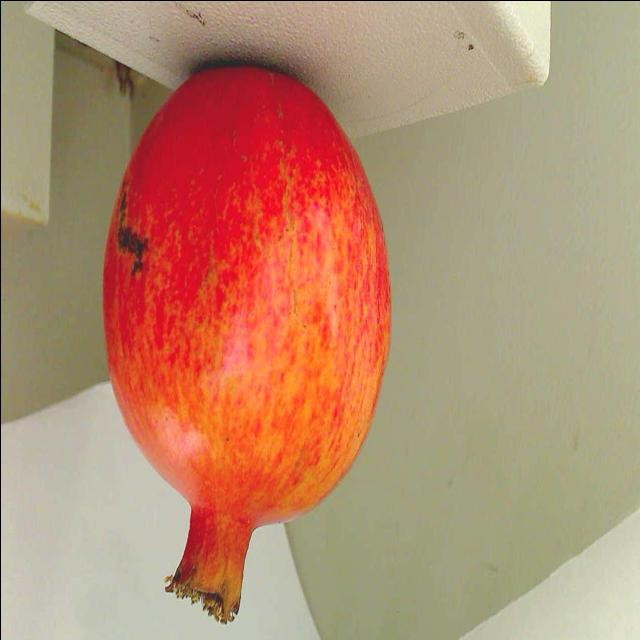pomegranate: (92, 61, 392, 640)
